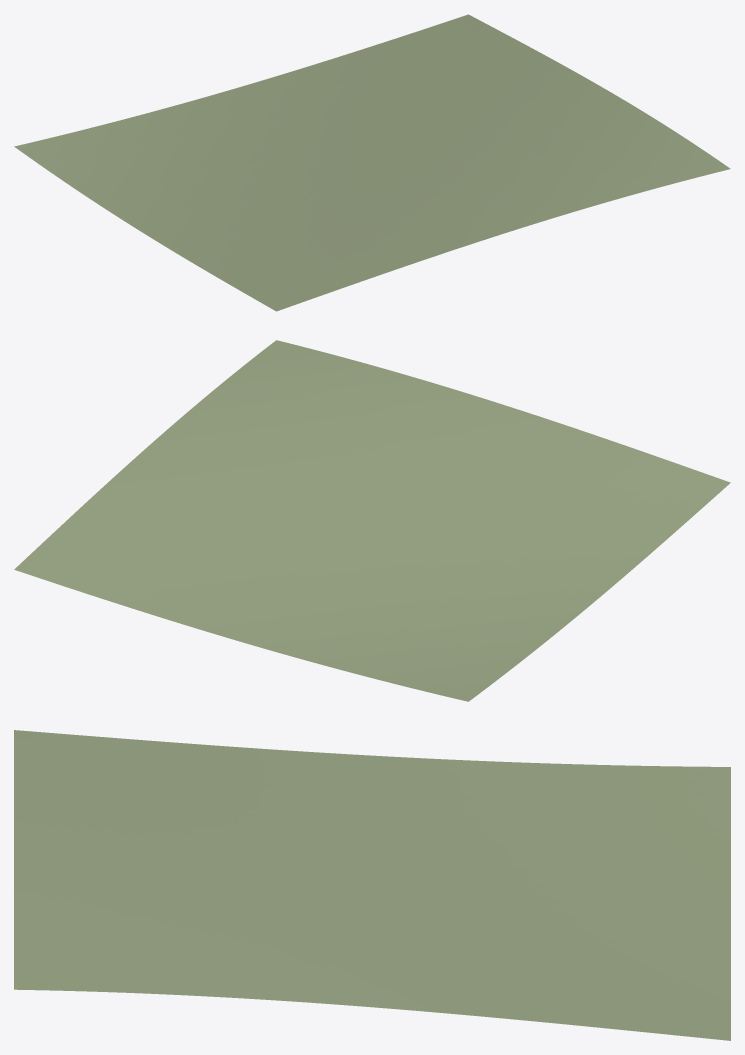
Rendered from alpine-1-8.glb.
3 renders of one model, top to bottom at view 1: azimuth 30°, elevation 25°; view 2: azimuth 150°, elevation 25°; view 3: azimuth 270°, elevation 25°, orthographic. The views are drawn at different scales.
Visible parts, largest first — view 1: alpine-1-8; view 2: alpine-1-8; view 3: alpine-1-8.
Part boxes in pixels (x1,y1,x2,y2): alpine-1-8: (14,14,730,311); alpine-1-8: (14,340,730,701); alpine-1-8: (14,730,730,1040).
Size of the model in its own units: 256 by 31.75 by 256.
